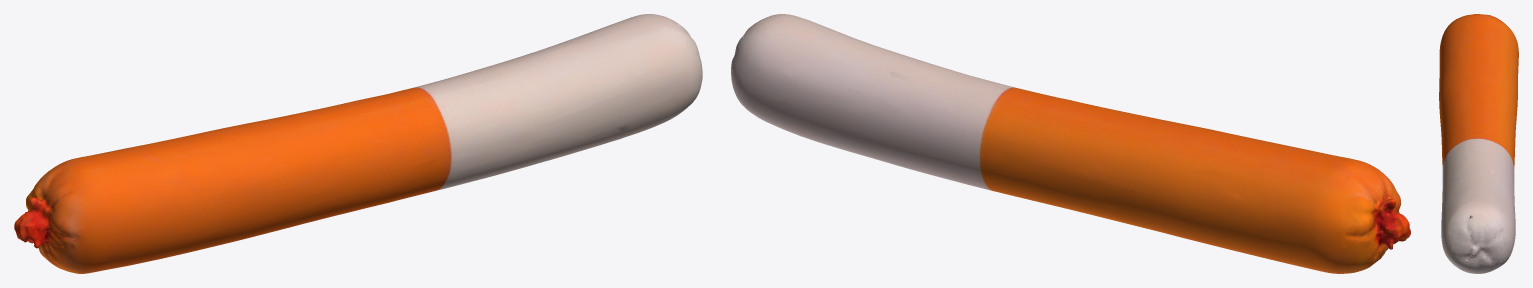
3 renders of one model, left to right at view 1: azimuth 30°, elevation 25°; view 2: azimuth 150°, elevation 25°; view 3: azimuth 270°, elevation 25°, orthographic. The views are drawn at different scales.
Parts seen in each view (by area): view 1: Mesh_0; view 2: Mesh_0; view 3: Mesh_0.
Part boxes in pixels (bbox=[...]): Mesh_0: bbox=[14, 14, 702, 273]; Mesh_0: bbox=[731, 14, 1410, 273]; Mesh_0: bbox=[1439, 14, 1518, 273].
Size of the model in its own units: 2 by 0.3183 by 0.2967.
Materials: 1 (1 with a texture image).
